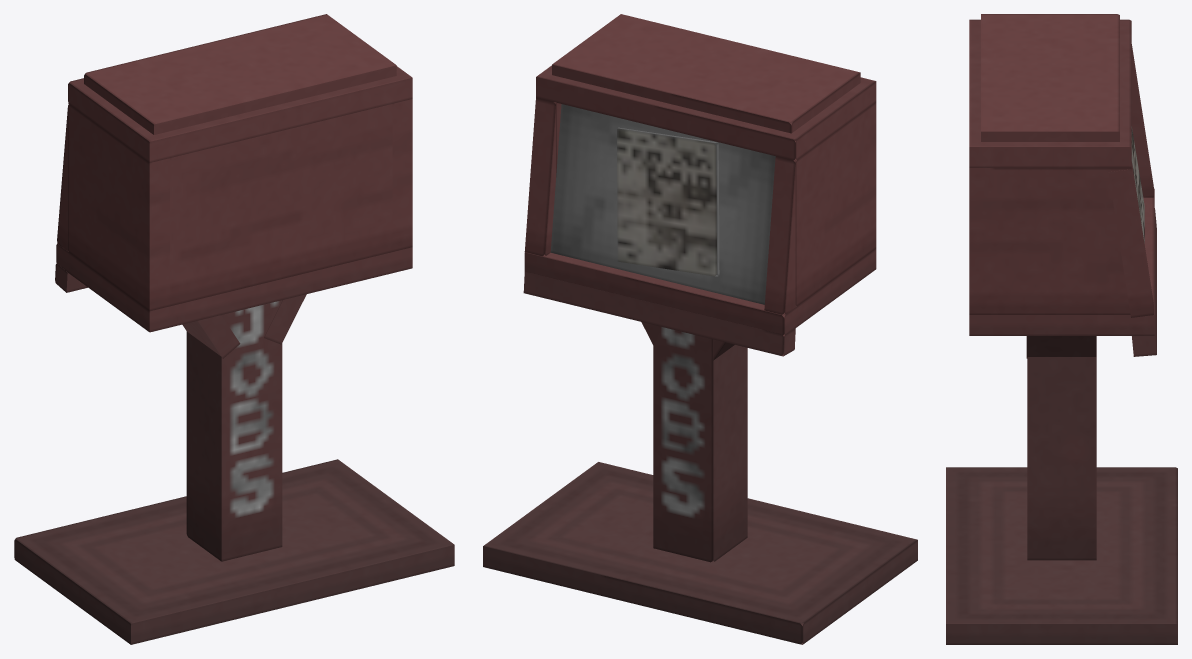
The model's file is news_stand2.obj.
3 renders of one model, left to right at view 1: azimuth 30°, elevation 25°; view 2: azimuth 150°, elevation 25°; view 3: azimuth 270°, elevation 25°, orthographic.
Parts seen in each view (by area): view 1: baseModel0, baseModel5, baseModel1, baseModel14, baseModel3, baseModel6, baseModel2, baseModel4, baseModel11, baseModel12, baseModel8; view 2: baseModel0, baseModel1, baseModel14, baseModel9, baseModel10, baseModel3, baseModel6, baseModel2, baseModel13, baseModel8, baseModel7; view 3: baseModel0, baseModel4, baseModel14, baseModel1, baseModel6, baseModel2, baseModel7, baseModel8, baseModel12, baseModel13, baseModel10.
Part boxes in pixels (left/top/right/bottom): baseModel0: left=14, top=459, right=454, bottom=644; baseModel5: left=170, top=104, right=392, bottom=306; baseModel1: left=186, top=300, right=282, bottom=561; baseModel14: left=84, top=14, right=396, bottom=134; baseModel3: left=68, top=104, right=169, bottom=311; baseModel6: left=68, top=66, right=412, bottom=162; baseModel2: left=56, top=243, right=412, bottom=332; baseModel4: left=392, top=99, right=412, bottom=251; baseModel11: left=182, top=315, right=240, bottom=358; baseModel12: left=264, top=294, right=306, bottom=344; baseModel8: left=57, top=108, right=68, bottom=251; baseModel0: left=483, top=462, right=917, bottom=644; baseModel1: left=653, top=325, right=747, bottom=562; baseModel14: left=552, top=14, right=860, bottom=140; baseModel9: left=550, top=104, right=775, bottom=304; baseModel10: left=617, top=127, right=719, bottom=276; baseModel3: left=775, top=102, right=876, bottom=305; baseModel6: left=536, top=65, right=876, bottom=160; baseModel2: left=524, top=248, right=876, bottom=336; baseModel13: left=523, top=271, right=795, bottom=356; baseModel8: left=764, top=157, right=796, bottom=315; baseModel7: left=524, top=99, right=556, bottom=256; baseModel0: left=946, top=467, right=1177, bottom=644; baseModel4: left=969, top=168, right=1131, bottom=314; baseModel14: left=981, top=14, right=1119, bottom=141; baseModel1: left=1027, top=336, right=1096, bottom=560; baseModel6: left=969, top=19, right=1131, bottom=167; baseModel2: left=969, top=188, right=1154, bottom=335; baseModel7: left=1108, top=162, right=1153, bottom=317; baseModel8: left=1131, top=44, right=1153, bottom=197; baseModel12: left=1026, top=336, right=1096, bottom=358; baseModel13: left=1132, top=208, right=1156, bottom=356; baseModel10: left=1131, top=126, right=1144, bottom=243.
Bounding box in the file's own units: 1 × 1.47 × 0.625.
1 material, 1 textured.
